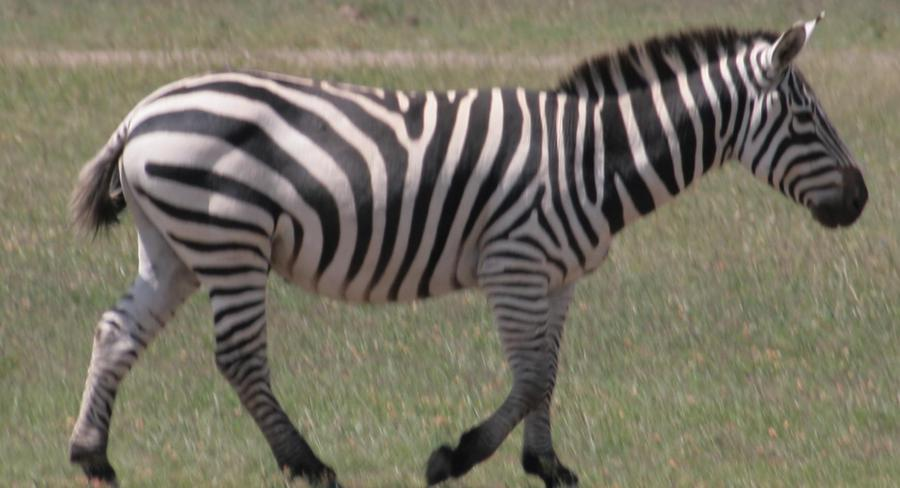zebra_plains: (131, 35, 614, 320)
